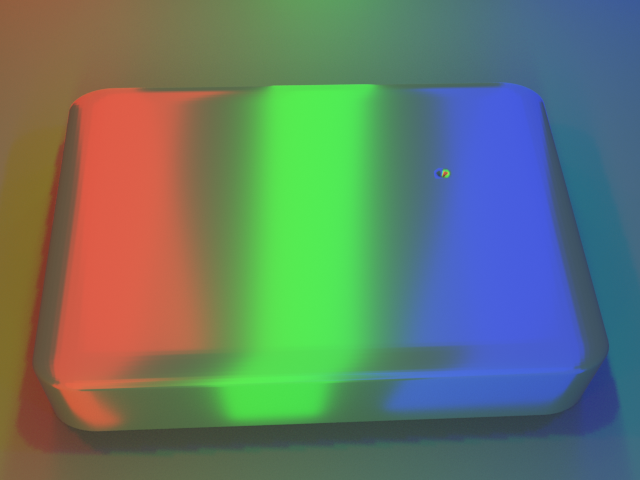dent: (436, 152, 472, 188)
